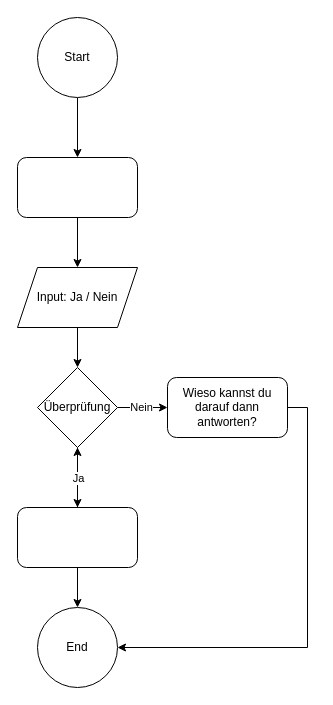
Image size: 333x705. Some labels were removed from this diagram. The centre of each missing label's shape, as x and y in pixels:
"Herzlichen Glückwunsch!" goes at [77,537].
"Print: Kannst du lesen?" goes at [77,187].
